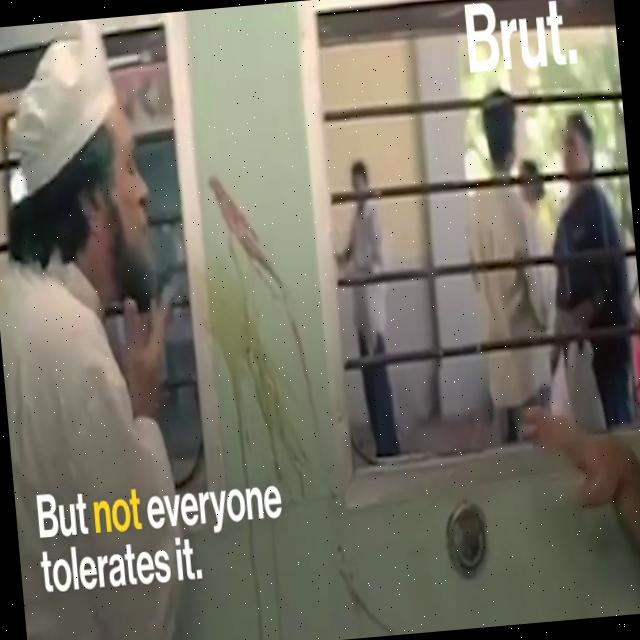spit: (10, 53, 276, 351)
